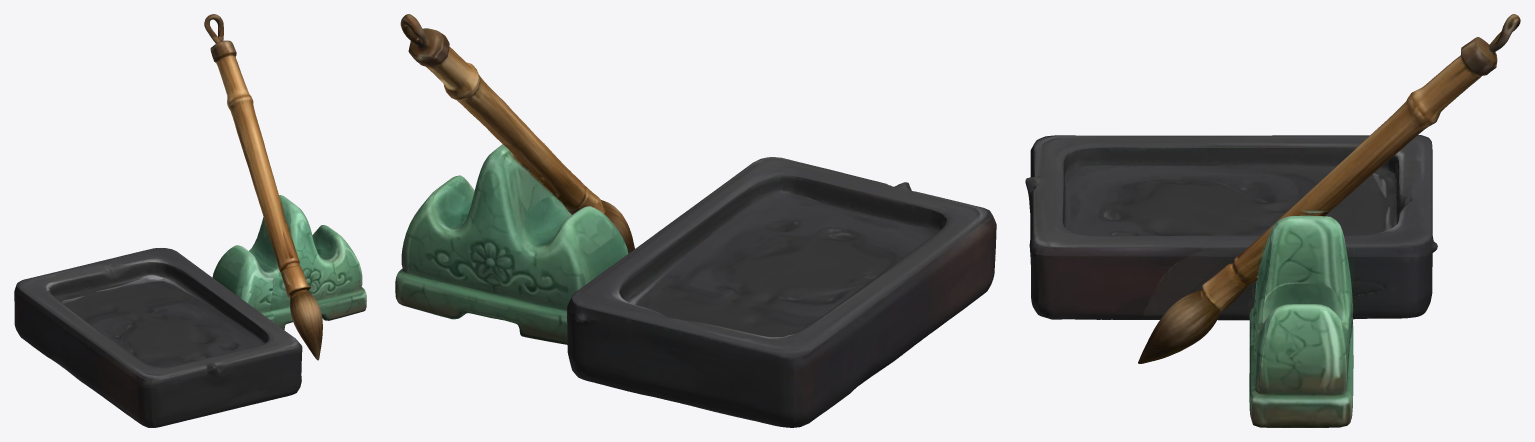
The model's file is inkstone-fixed.glb.
3 renders of one model, left to right at view 1: azimuth 30°, elevation 25°; view 2: azimuth 150°, elevation 25°; view 3: azimuth 270°, elevation 25°, orthographic. The views are drawn at different scales.
Parts seen in each view (by area): view 1: geometry_0; view 2: geometry_0; view 3: geometry_0.
Part boxes in pixels (<box>): geometry_0: <box>14,14,366,427</box>; geometry_0: <box>395,14,996,427</box>; geometry_0: <box>1025,14,1520,427</box>.
Size of the model in its own units: 0.15 by 0.1203 by 0.1464.
Materials: 1 (1 with a texture image).
